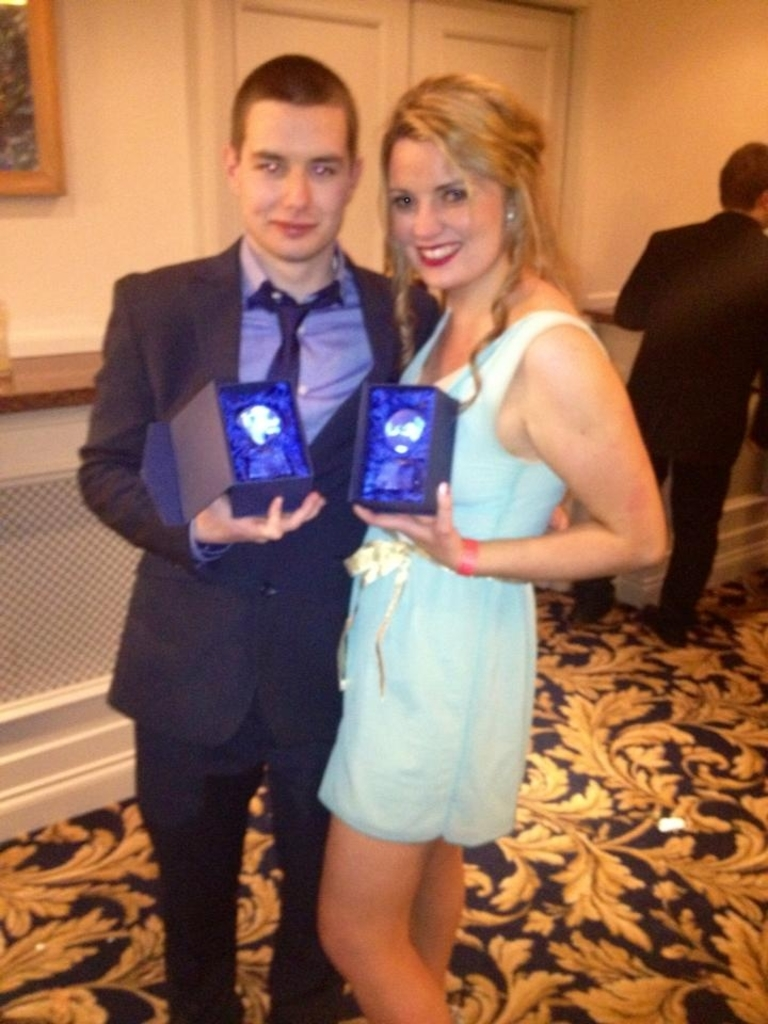Human-face: (383, 142, 500, 295), (242, 105, 342, 261)
